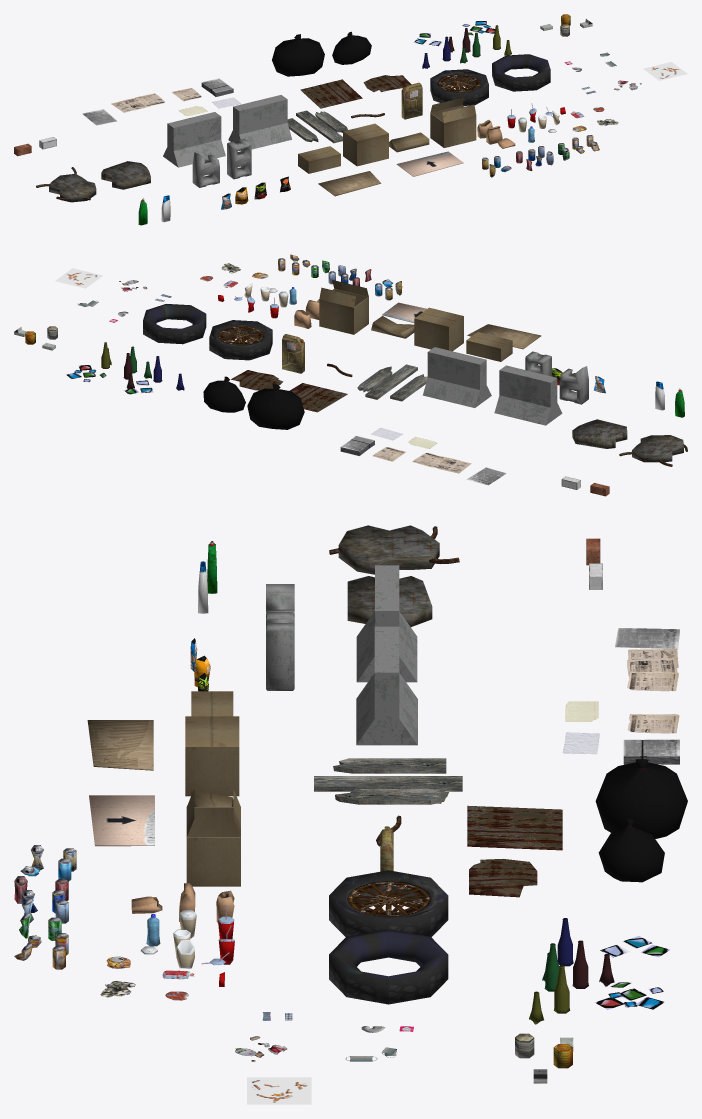
File: TrashAndDebrisPreview.fbx
3 renders of one model, top to bottom at view 1: azimuth 30°, elevation 25°; view 2: azimuth 150°, elevation 25°; view 3: azimuth 270°, elevation 25°, orthographic. The views are drawn at different scales.
Parts seen in each view (by area): view 1: Barriar, CardboardBox_2, Wheel_1, TrashBag_1, Wheel_2, CardboardBox_1, Concrete_Debris_2, Concrete_Debris_1, Sheet_Metal_1, TrashBag_2, Cinder_Block_1, Cardboard_Cutout_2 (+16 smaller); view 2: Barriar, CardboardBox_2, Wheel_1, TrashBag_1, Wheel_2, CardboardBox_1, Concrete_Debris_2, Concrete_Debris_1, TrashBag_2, CardboardBox_3, Cinder_Block_2, Sheet_Metal_1 (+16 smaller); view 3: Wheel_2, Wheel_1, TrashBag_1, Barriar, CardboardBox_2, CardboardBox_1, Concrete_Debris_2, Sheet_Metal_1, Cardboard_Cutout_2, Cardboard_Cutout_1, TrashBag_2, Concrete_Debris_1 (+13 smaller).
Part boxes in pixels (bbox=[...]): Barriar: bbox=[228, 95, 291, 149]; CardboardBox_2: bbox=[430, 97, 476, 147]; Wheel_1: bbox=[430, 69, 488, 105]; TrashBag_1: bbox=[272, 34, 324, 76]; Wheel_2: bbox=[492, 54, 550, 91]; CardboardBox_1: bbox=[343, 123, 388, 166]; Concrete_Debris_2: bbox=[36, 167, 96, 202]; Concrete_Debris_1: bbox=[101, 161, 150, 189]; Sheet_Metal_1: bbox=[300, 79, 362, 108]; TrashBag_2: bbox=[332, 31, 371, 64]; Cinder_Block_1: bbox=[227, 138, 251, 179]; Cardboard_Cutout_2: bbox=[396, 151, 463, 176]; Barriar: bbox=[422, 347, 491, 407]; CardboardBox_2: bbox=[319, 280, 368, 334]; Wheel_1: bbox=[209, 320, 272, 360]; TrashBag_1: bbox=[247, 384, 304, 429]; Wheel_2: bbox=[143, 304, 206, 344]; CardboardBox_1: bbox=[414, 307, 463, 351]; Concrete_Debris_2: bbox=[619, 435, 687, 466]; Concrete_Debris_1: bbox=[572, 419, 627, 448]; TrashBag_2: bbox=[203, 376, 245, 412]; CardboardBox_3: bbox=[466, 332, 512, 361]; Cinder_Block_2: bbox=[559, 366, 588, 404]; Sheet_Metal_1: bbox=[289, 383, 347, 412]; Wheel_2: bbox=[329, 929, 448, 1004]; Wheel_1: bbox=[329, 870, 448, 936]; TrashBag_1: bbox=[595, 759, 687, 838]; Barriar: bbox=[356, 626, 417, 745]; CardboardBox_2: bbox=[186, 789, 240, 886]; CardboardBox_1: bbox=[185, 716, 239, 796]; Concrete_Debris_2: bbox=[329, 525, 459, 574]; Sheet_Metal_1: bbox=[467, 805, 562, 850]; Cardboard_Cutout_2: bbox=[89, 795, 154, 846]; Cardboard_Cutout_1: bbox=[87, 720, 153, 770]; TrashBag_2: bbox=[598, 819, 664, 882]; Concrete_Debris_1: bbox=[347, 576, 432, 626].
Bounding box in the file's own units: 23.34 × 1.86 × 11.5.
